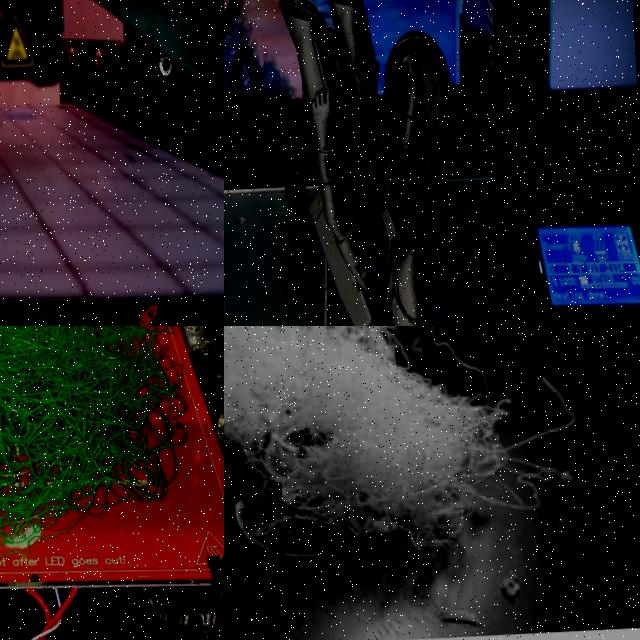spaghetti: (224, 326, 567, 594), (0, 326, 161, 640)
